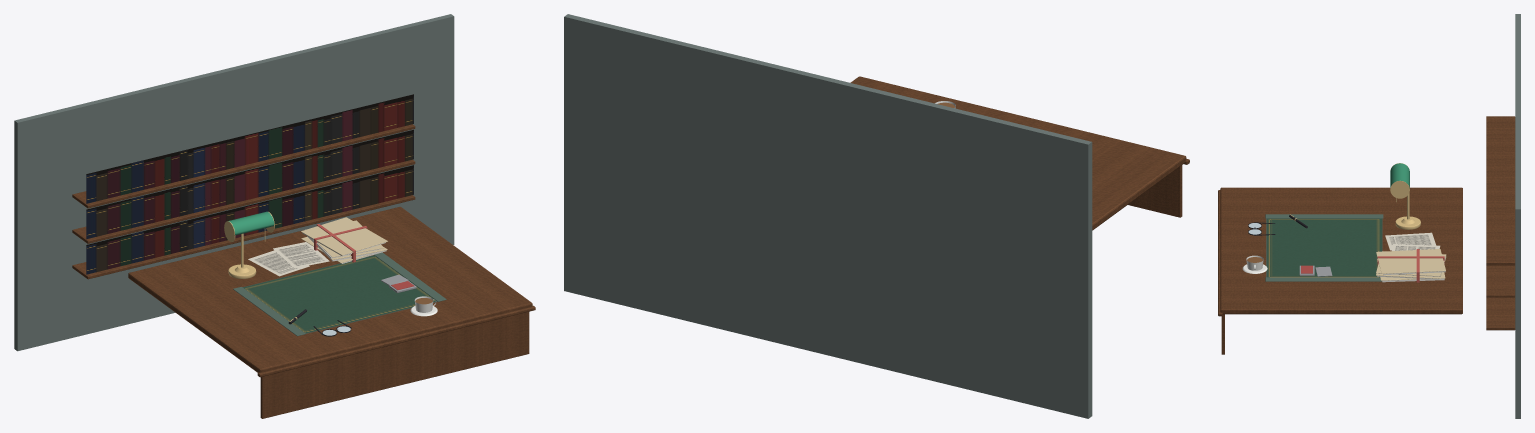
Rendered from desk.glb.
3 views of the same model, side by side, from view 1: azimuth 30°, elevation 25°; view 2: azimuth 150°, elevation 25°; view 3: azimuth 270°, elevation 25° (orthographic). The views are drawn at different scales.
Parts seen in each view (by area): view 1: wall, desk-top, desk-front, books-2, books-1, books-0, blotter, shelf-2, shelf-1, shelf-0, folder-cover-3, desk-edge (+5 smaller); view 2: wall, desk-top, desk-front; view 3: desk-top, blotter, shelf-2, wall, folder-cover-3, shelf-0, shelf-1, blotter-end-1, blotter-end--1, paper-a, desk-edge, lamp-shade (+1 smaller).
Part boxes in pixels (x1,y1,x2,y2): wall: (14, 14, 454, 351); desk-top: (128, 206, 532, 372); desk-front: (260, 312, 529, 418); books-2: (86, 94, 413, 203); books-1: (86, 129, 413, 239); books-0: (86, 165, 413, 274); blotter: (243, 255, 436, 333); shelf-2: (72, 124, 415, 208); shelf-1: (72, 159, 415, 243); shelf-0: (72, 195, 415, 279); folder-cover-3: (301, 217, 387, 255); desk-edge: (257, 305, 535, 377); wall: (564, 14, 1092, 418); desk-top: (850, 76, 1186, 230); desk-front: (1128, 165, 1182, 217); desk-top: (1220, 187, 1462, 314); blotter: (1266, 218, 1382, 277); shelf-2: (1486, 116, 1515, 265); wall: (1515, 14, 1520, 418); folder-cover-3: (1376, 249, 1445, 273); shelf-0: (1486, 297, 1515, 330); shelf-1: (1486, 265, 1515, 297); blotter-end-1: (1265, 277, 1381, 281); blotter-end--1: (1265, 214, 1383, 218); paper-a: (1385, 232, 1436, 250); desk-edge: (1218, 190, 1222, 316); lamp-shade: (1390, 163, 1409, 188).
Size of the model in its own units: 8 by 4 by 5.24.
22 materials, 6 textured.
